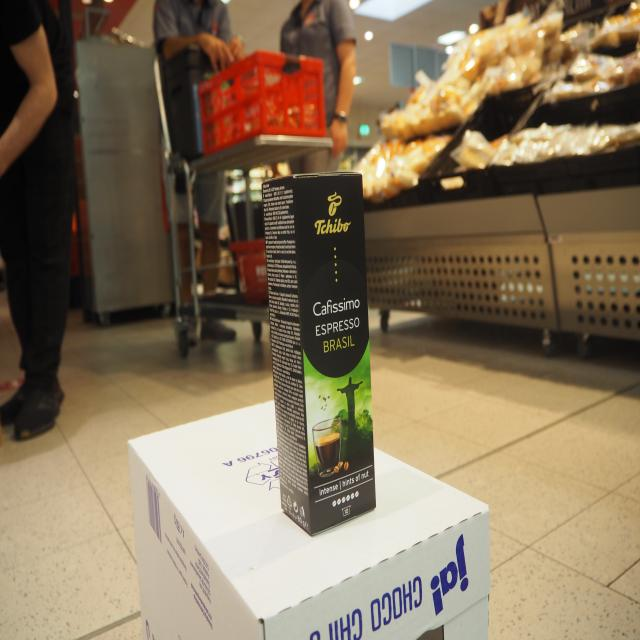Simo Es Brazil: (259, 167, 378, 555)
